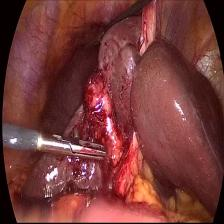Grasper: (38, 132, 108, 166)
